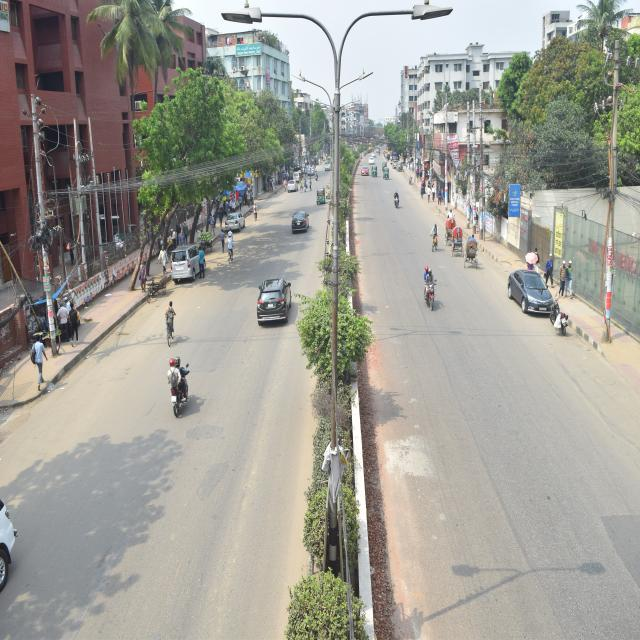car: (250, 261, 300, 334), (506, 256, 552, 316), (282, 205, 313, 237), (224, 203, 251, 237), (286, 173, 299, 195)
microbus: (167, 239, 208, 283)
motorbike: (157, 350, 195, 425), (543, 289, 582, 350), (422, 265, 442, 317), (390, 185, 406, 214)
